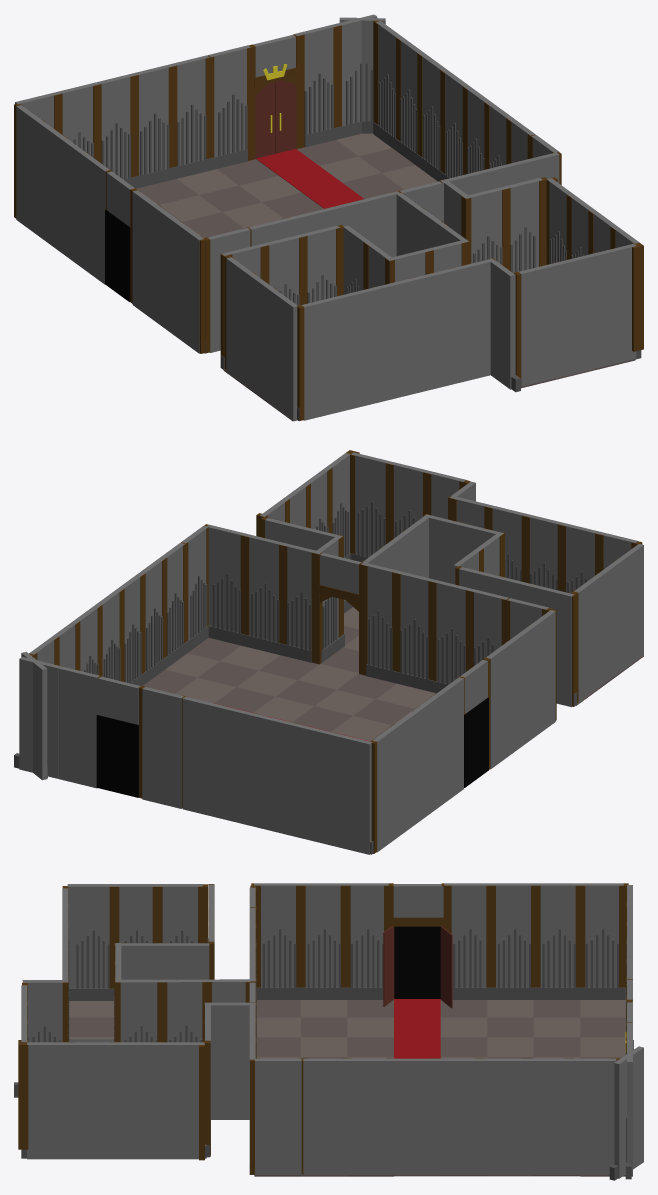
Rendered from TutorialMap.fbx.
The picture shows the model from 3 angles, top to bottom: view 1: azimuth 30°, elevation 25°; view 2: azimuth 150°, elevation 25°; view 3: azimuth 270°, elevation 25°; orthographic projection. The views are drawn at different scales.
Parts seen in each view (by area): view 1: Куб.933, Куб.744, Куб.760, Куб.821, Куб.795, Куб.947, Куб.837, Куб.965, Куб.793, Куб.994, Куб.198, Куб.110 (+88 smaller); view 2: Куб.073, Куб.002, Куб.162, Куб.038, Куб.559, Куб.054, Куб.019, Куб.296, Куб.378, Куб.215, Куб.198, Куб.811 (+81 smaller); view 3: Куб.539, Куб.486, Куб.521, Куб.467, Куб.415, Куб.197, Куб.450, Куб.431, Куб.624, Куб.502, Куб.640, Куб.605 (+75 smaller).
Part boxes in pixels (box(x1,y1,x2,y2)): Куб.933: box(519, 262, 561, 386); Куб.744: box(377, 277, 419, 402); Куб.760: box(339, 286, 380, 411); Куб.821: box(414, 268, 456, 392); Куб.795: box(302, 296, 343, 420); Куб.947: box(558, 253, 598, 376); Куб.837: box(453, 258, 494, 383); Куб.965: box(595, 243, 636, 367); Куб.793: box(270, 290, 297, 420); Куб.994: box(490, 260, 515, 389); Куб.198: box(132, 190, 159, 321); Куб.110: box(37, 121, 65, 251); Куб.073: box(330, 733, 371, 854); Куб.002: box(182, 696, 223, 818); Куб.162: box(142, 687, 183, 808); Куб.038: box(292, 724, 333, 845); Куб.559: box(58, 666, 99, 788); Куб.054: box(256, 714, 296, 835); Куб.019: box(219, 706, 258, 826); Куб.296: box(96, 715, 138, 797); Куб.378: box(206, 524, 246, 632); Куб.215: box(507, 626, 534, 753); Куб.198: box(486, 641, 513, 769); Куб.811: box(574, 575, 600, 702); Куб.539: box(255, 1058, 301, 1174); Куб.486: box(434, 1058, 480, 1174); Куб.521: box(480, 1058, 526, 1174); Куб.467: box(346, 1058, 392, 1174); Куб.415: box(526, 1058, 572, 1174); Куб.197: box(115, 1042, 161, 1159); Куб.450: box(303, 1058, 349, 1174); Куб.431: box(569, 1058, 616, 1174); Куб.624: box(70, 1042, 114, 1159); Куб.502: box(391, 1058, 437, 1174); Куб.640: box(27, 1042, 72, 1159); Куб.605: box(158, 1042, 204, 1159).
Size of the model in its own units: 7455 by 2193 by 10819.
